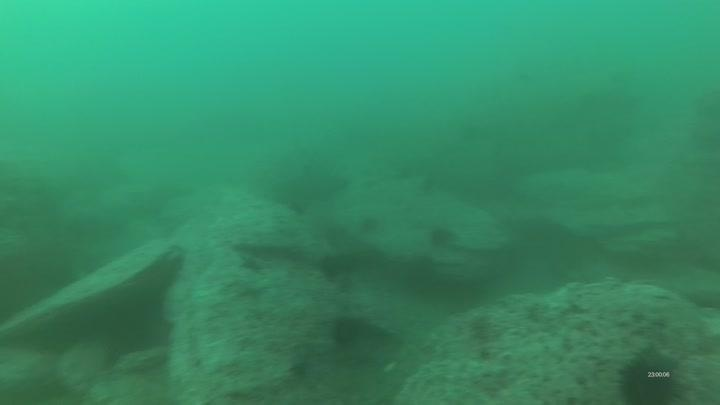echinus: (614, 347, 686, 405), (400, 254, 440, 296), (328, 313, 367, 350), (426, 223, 458, 251), (356, 209, 379, 225), (322, 261, 341, 280)
